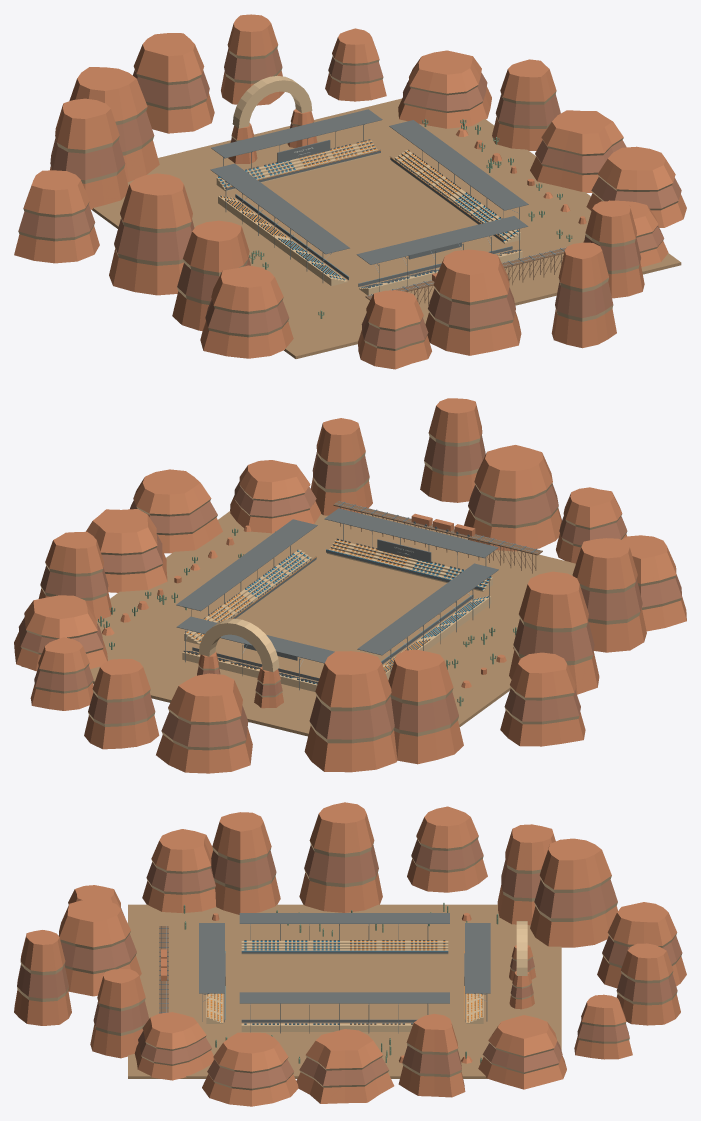
Rendered from canyon.glb.
3 renders of one model, top to bottom at view 1: azimuth 30°, elevation 25°; view 2: azimuth 150°, elevation 25°; view 3: azimuth 270°, elevation 25°, orthographic. The views are drawn at different scales.
Visible parts, largest first — view 1: canyon_Signature_vermilion, canyon_Scenery_ground, canyon_Secondary_venue_accent, canyon_Venue_structural_steel, canyon_Pale_stone_or_snow, canyon_Orange_end_seating, canyon_Timber_or_panel_substrate, canyon_Blue_end_seating, canyon_Foliage_or_secondary_panels; view 2: canyon_Signature_vermilion, canyon_Scenery_ground, canyon_Secondary_venue_accent, canyon_Venue_structural_steel, canyon_Pale_stone_or_snow, canyon_Timber_or_panel_substrate, canyon_Blue_end_seating, canyon_Orange_end_seating, canyon_Foliage_or_secondary_panels; view 3: canyon_Signature_vermilion, canyon_Scenery_ground, canyon_Secondary_venue_accent, canyon_Venue_structural_steel, canyon_Pale_stone_or_snow, canyon_Orange_end_seating, canyon_Timber_or_panel_substrate, canyon_Blue_end_seating.
Part boxes in pixels (<box>): canyon_Signature_vermilion: <box>14,14,686,369</box>; canyon_Scenery_ground: <box>92,98,681,358</box>; canyon_Secondary_venue_accent: <box>18,48,681,348</box>; canyon_Venue_structural_steel: <box>210,109,564,295</box>; canyon_Pale_stone_or_snow: <box>18,45,678,350</box>; canyon_Orange_end_seating: <box>221,140,520,255</box>; canyon_Timber_or_panel_substrate: <box>365,248,565,305</box>; canyon_Blue_end_seating: <box>218,160,518,287</box>; canyon_Foliage_or_secondary_panels: <box>249,119,572,321</box>; canyon_Signature_vermilion: <box>14,398,686,773</box>; canyon_Scenery_ground: <box>21,511,575,736</box>; canyon_Secondary_venue_accent: <box>18,436,681,747</box>; canyon_Venue_structural_steel: <box>176,502,536,690</box>; canyon_Pale_stone_or_snow: <box>21,433,681,750</box>; canyon_Timber_or_panel_substrate: <box>333,501,542,573</box>; canyon_Blue_end_seating: <box>245,549,491,683</box>; canyon_Orange_end_seating: <box>184,540,429,676</box>; canyon_Foliage_or_secondary_panels: <box>98,528,516,706</box>; canyon_Signature_vermilion: <box>14,802,686,1106</box>; canyon_Scenery_ground: <box>128,904,561,1078</box>; canyon_Secondary_venue_accent: <box>17,839,682,1088</box>; canyon_Venue_structural_steel: <box>159,913,490,1033</box>; canyon_Pale_stone_or_snow: <box>17,836,681,1090</box>; canyon_Orange_end_seating: <box>207,941,482,1024</box>; canyon_Timber_or_panel_substrate: <box>159,926,168,1012</box>; canyon_Blue_end_seating: <box>225,941,447,1024</box>.
Bounding box in the file's own units: 319 × 50.79 × 365.
